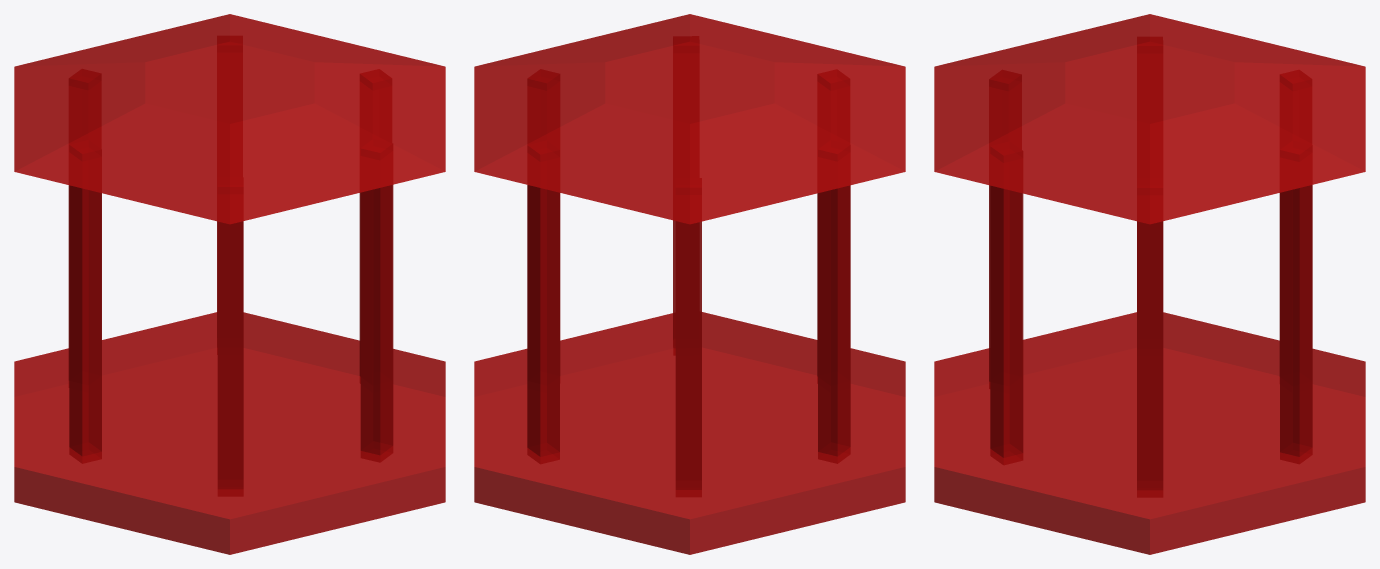
The model's file is SM_Bld_Fountain_01_Collision.fbx.
3 views of the same model, side by side, from view 1: azimuth 30°, elevation 25°; view 2: azimuth 150°, elevation 25°; view 3: azimuth 270°, elevation 25° (orthographic).
Parts seen in each view (by area): view 1: SM_Bld_Fountain_01_Collision; view 2: SM_Bld_Fountain_01_Collision; view 3: SM_Bld_Fountain_01_Collision.
Boxes of the visible parts, x1,y1,x2,y2 form: SM_Bld_Fountain_01_Collision: (14,14,445,554); SM_Bld_Fountain_01_Collision: (474,14,905,554); SM_Bld_Fountain_01_Collision: (934,14,1365,554).
Size of the model in its own units: 620 by 504 by 537.
